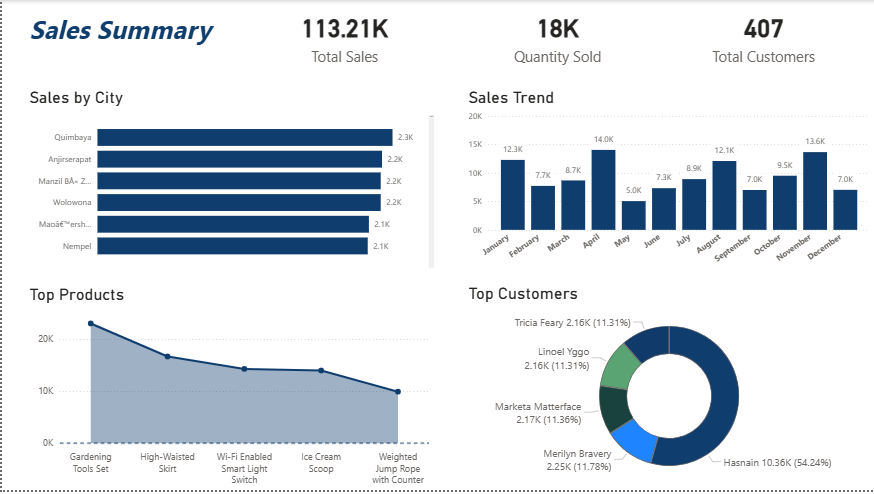

The dashboard page shown, as its layout file describes it:
{"tool":"powerbi","page":{"name":"Page 1","canvas":[1280,720],"ordinal":0},"visuals":[{"type":"textbox","box":[35.3,11.8,296.8,105.8],"z":0},{"type":"card","fields":{"Values":["Sum(portfolio_project1.total_revenue)"]},"box":[367.9,0,272.1,105.8],"z":1000},{"type":"card","fields":{"Values":["Sum(portfolio_project1.quantity)"]},"box":[680.3,0,272.1,105.8],"z":2000},{"type":"card","fields":{"Values":["Count(portfolio_project1.customer_name)"]},"box":[982.7,0,272.1,105.8],"z":3000},{"type":"clusteredBarChart","title":"Sales by City","fields":{"Category":["portfolio_project1.city"],"Y":["Sum(portfolio_project1.total_revenue)"]},"box":[35.3,129.3,604.7,270.4],"z":4000},{"type":"lineClusteredColumnComboChart","title":"Sales Trend","fields":{"Category":["portfolio_project1.order_date.Variation.Date Hierarchy.Month"],"Y":["Sum(portfolio_project1.total_revenue)"]},"box":[680.3,129.3,599.7,270.4],"z":5000},{"type":"stackedAreaChart","title":"Top Products","fields":{"Y":["Sum(portfolio_project1.total_revenue)"],"Category":["portfolio_project1.product_name"]},"box":[35.3,418.3,604.7,302.4],"z":6000},{"type":"donutChart","title":"Top Customers","fields":{"Category":["portfolio_project1.customer_name"],"Y":["Sum(portfolio_project1.total_revenue)"]},"box":[680,418,600,302],"z":7000}]}

Visuals, with their boxes in screenshot pixels (x1, y1, x2, y2), scaled from the page's 1280x720 canvas onto the 874x494 screenshot:
textbox: [24, 8, 227, 81]
card - Sum(portfolio_project1.total_revenue): [251, 0, 437, 73]
card - Sum(portfolio_project1.quantity): [465, 0, 650, 73]
card - Count(portfolio_project1.customer_name): [671, 0, 857, 73]
"Sales by City" clusteredBarChart: [24, 89, 437, 274]
"Sales Trend" lineClusteredColumnComboChart: [465, 89, 873, 274]
"Top Products" stackedAreaChart: [24, 287, 437, 493]
"Top Customers" donutChart: [464, 287, 873, 493]
